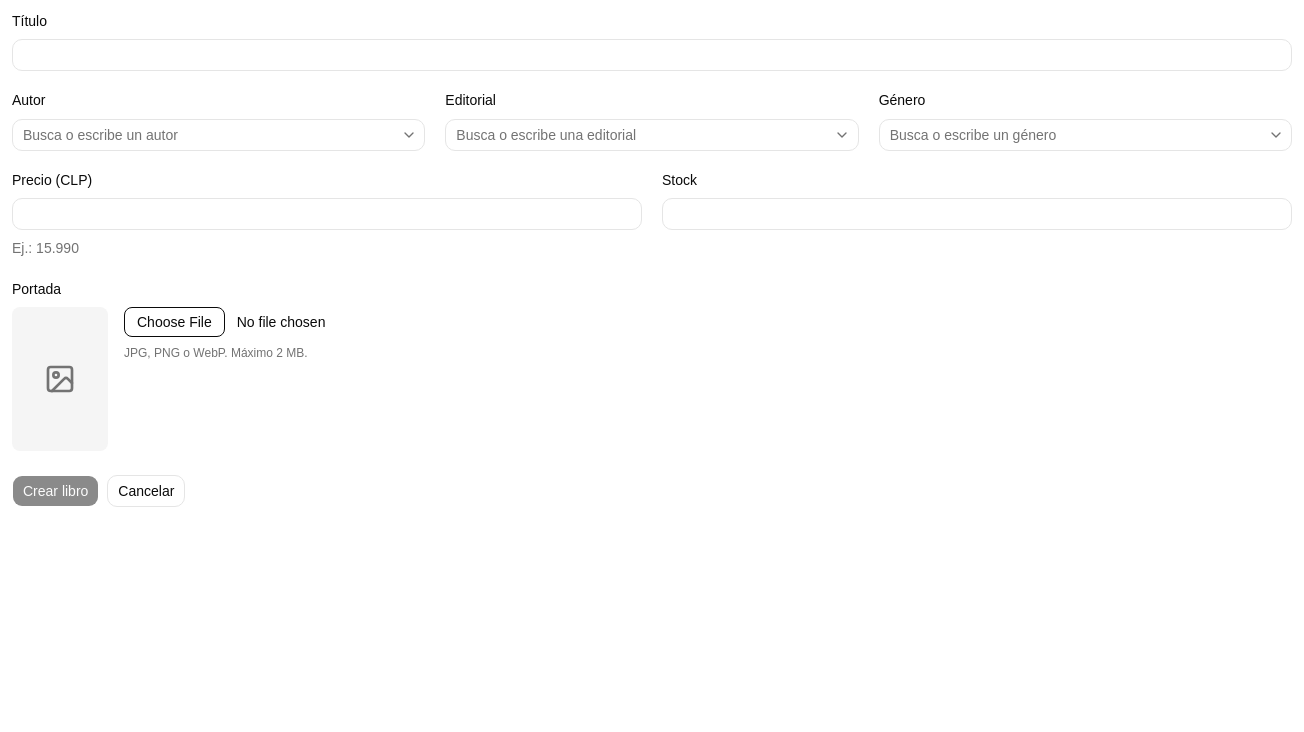
Test case: BookForm › los botones que despliegan autor, editorial y género tienen nombre accesible
Expected: the button named "Mostrar autores" is shown, [397, 122, 421, 146]
Expected: the button named "Mostrar editoriales" is shown, [830, 122, 854, 146]
Step 1. Click the button named "Mostrar géneros" → (1276, 134), box [1264, 122, 1288, 146]
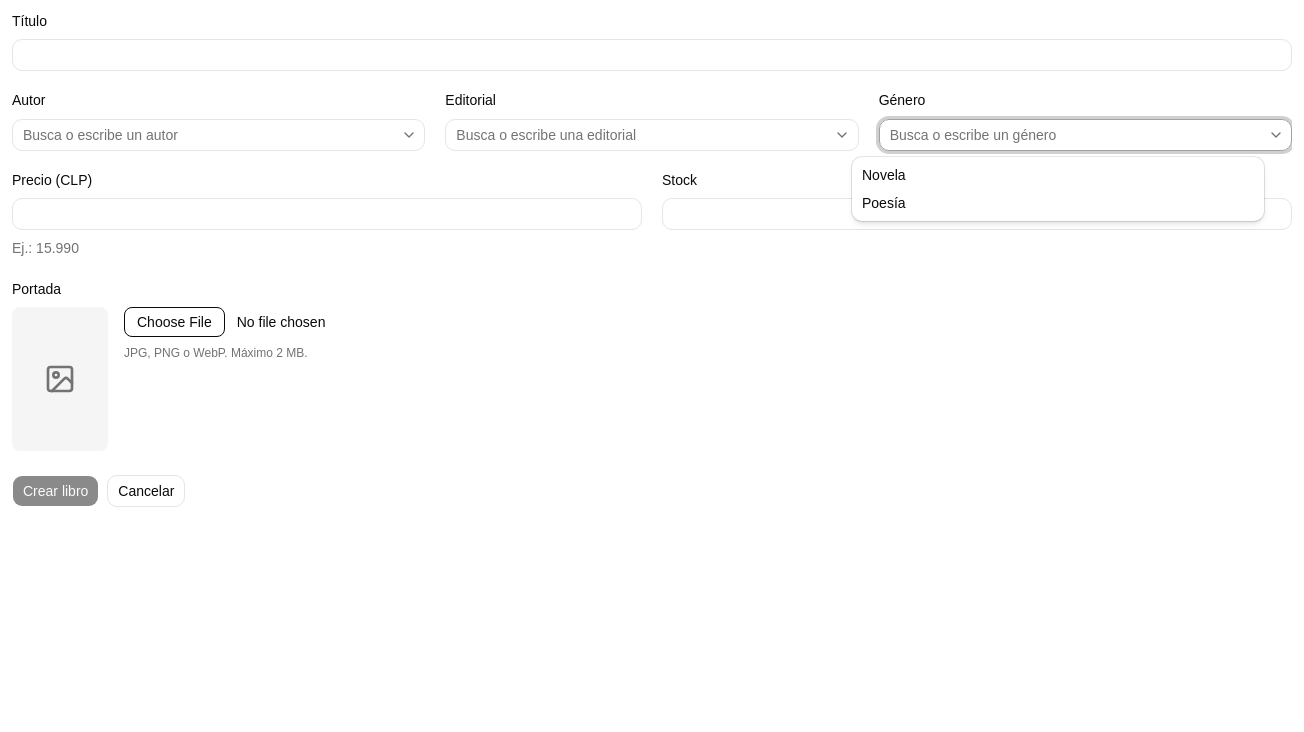
Result: the option "Poesía" is shown at [862, 195, 906, 211]
